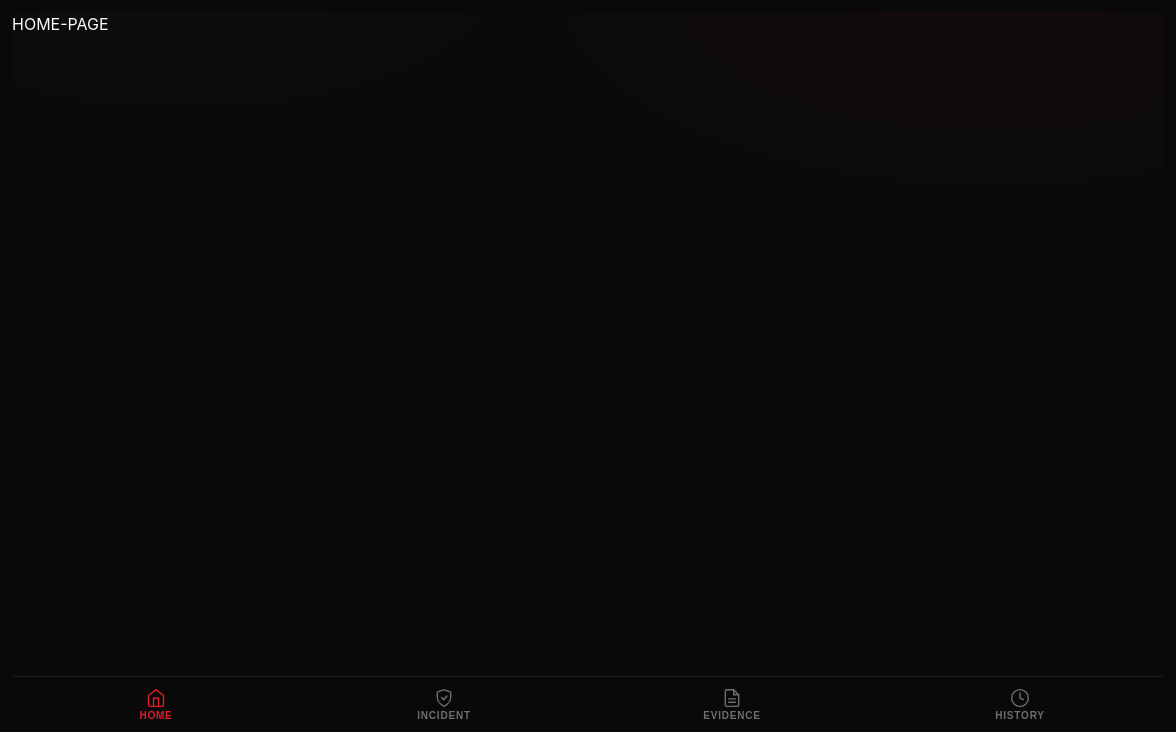
Test case: BottomNav - Reachable destinations › navigates to History
Step 1. Click the button "History" → click(1020, 704), box [876,677,1164,731]
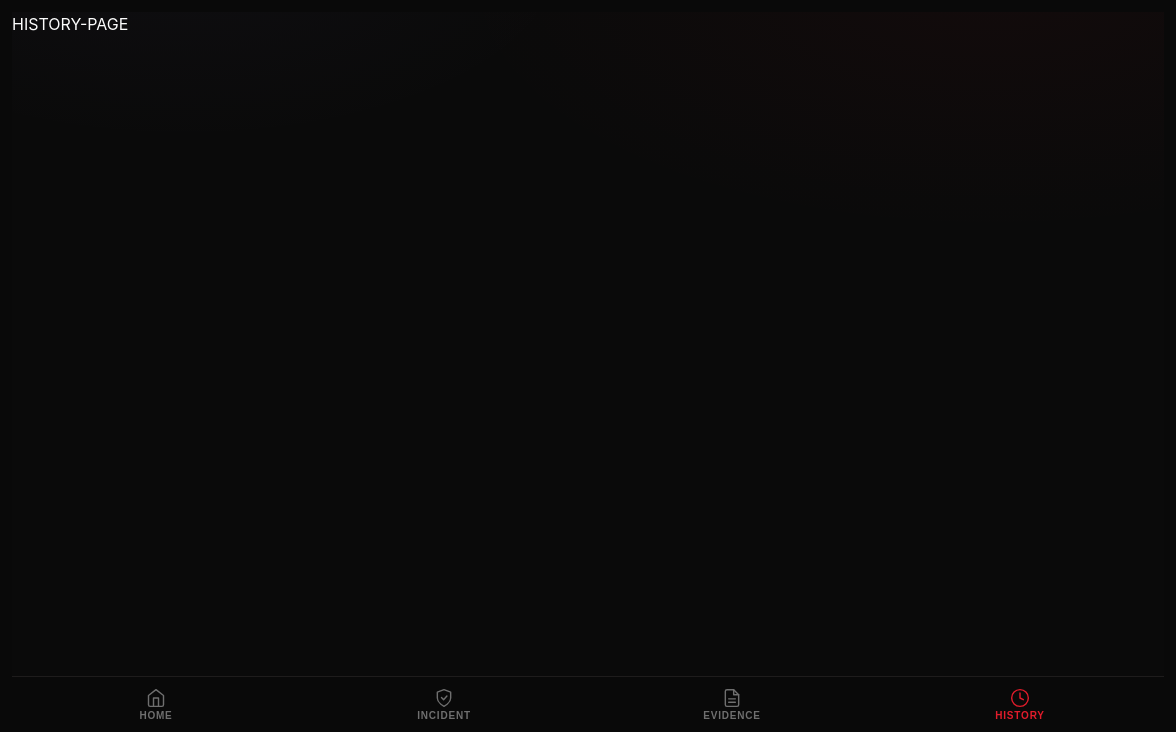
Expected: the text "HISTORY-PAGE" is shown, [12,14,128,34]
